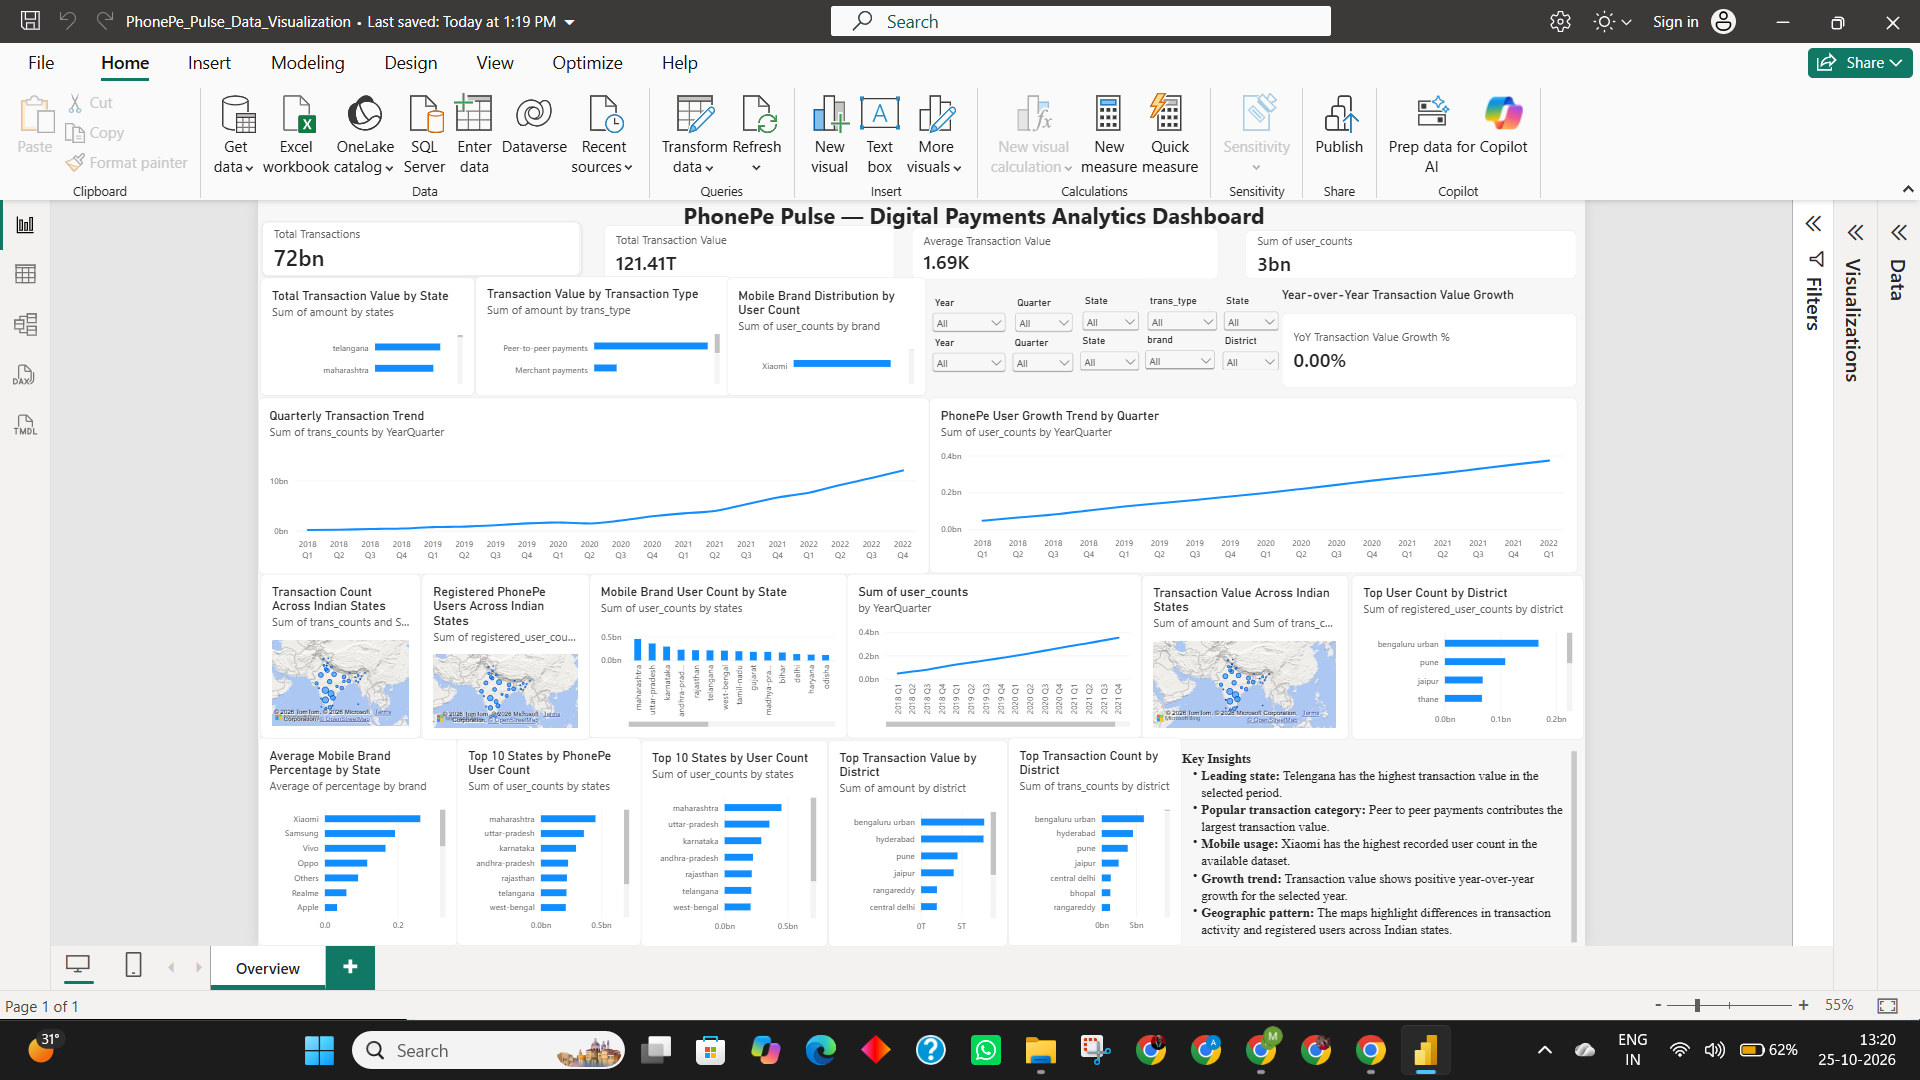

This screenshot's page, from the dashboard's own definition file:
{"tool":"powerbi","page":{"name":"Overview","canvas":[1920,1080],"ordinal":0},"visuals":[{"type":"cardVisual","fields":{"Data":["Aggregated_Transaction.Total Transactions"]},"box":[5.5,31,462.9,80],"z":0},{"type":"cardVisual","fields":{"Data":["Aggregated_Transaction.Total Transaction Value"]},"box":[501.3,36.9,420,82.9],"z":1000},{"type":"cardVisual","fields":{"Data":["Aggregated_Transaction.Average Transaction Value"]},"box":[946.1,39.1,444.8,75.9],"z":2000},{"type":"clusteredBarChart","title":"Total Transaction Value by State","fields":{"Category":["Aggregated_Transaction.states"],"Y":["Sum(Aggregated_Transaction.amount)"]},"box":[4.3,112.8,310.3,171.4],"z":3000},{"type":"clusteredBarChart","title":"Transaction Value by Transaction Type","fields":{"Category":["Aggregated_Transaction.trans_type"],"Y":["Sum(Aggregated_Transaction.amount)"]},"box":[314.6,110.7,371.1,173.6],"z":4000},{"type":"slicer","fields":{"Values":["Dim_Year.Year"]},"box":[972.2,138.9,115,62.9],"z":5000},{"type":"slicer","fields":{"Values":["Dim_Quarter.Quarter"]},"box":[1091.5,138.9,93.3,62.9],"z":6000},{"type":"slicer","fields":{"Values":["Dim_State.State"]},"box":[1189.2,136.7,91.1,60.8],"z":7000},{"type":"slicer","fields":{"Values":["Aggregated_Transaction.trans_type"]},"box":[1282.5,136.7,110.7,60.8],"z":8000},{"type":"lineChart","title":"Quarterly Transaction Trend","fields":{"Category":["Aggregated_Transaction.YearQuarter"],"Y":["Sum(Aggregated_Transaction.trans_counts)"]},"box":[0,286,972,256],"z":9000},{"type":"map","title":"Transaction Value Across Indian States","fields":{"Category":["Aggregated_Transaction.states"],"Size":["Sum(Aggregated_Transaction.amount)"]},"box":[1280.3,542.5,299.5,238.7],"z":10000},{"type":"clusteredBarChart","title":"Mobile Brand Distribution by User Count","fields":{"Category":["Aggregated_User.brand"],"Y":["Sum(Aggregated_User.user_counts)"]},"box":[679.2,112.8,288.6,171.4],"z":11000},{"type":"slicer","fields":{"Values":["Aggregated_User.brand"]},"box":[1280.3,193.1,110.7,60.8],"z":12000},{"type":"clusteredColumnChart","title":"Mobile Brand User Count by State","fields":{"Category":["Aggregated_User.states"],"Y":["Sum(Aggregated_User.user_counts)"]},"box":[479.6,540.3,373.2,238.7],"z":13000},{"type":"clusteredBarChart","title":"Average Mobile Brand Percentage by State","fields":{"Category":["Aggregated_User.brand"],"Y":["Avg(Aggregated_User.percentage)"]},"box":[0,779,288.6,301.6],"z":14000},{"type":"cardVisual","fields":{"Data":["Sum(Aggregated_User.user_counts)"]},"box":[1430,43.4,479.6,71.6],"z":15000},{"type":"lineChart","fields":{"Category":["Aggregated_User.YearQuarter"],"Y":["Sum(Aggregated_User.user_counts)"]},"box":[852.8,540.3,427.5,238.7],"z":16000},{"type":"clusteredBarChart","title":"Top 10 States by User Count","fields":{"Category":["Aggregated_User.states"],"Y":["Sum(Aggregated_User.user_counts)"]},"box":[553.3,781.2,271.2,299.5],"z":17000},{"type":"slicer","fields":{"Values":["Dim_Year.Year"]},"box":[972.2,197.5,115,56.4],"z":18000},{"type":"slicer","fields":{"Values":["Dim_Quarter.Quarter"]},"box":[1087.2,197.5,97.6,67.3],"z":19000},{"type":"slicer","fields":{"Values":["Dim_State.State"]},"box":[1184.8,195.3,95.5,60.8],"z":20000},{"type":"lineChart","title":"PhonePe User Growth Trend by Quarter","fields":{"Category":["Aggregated_User.YearQuarter"],"Y":["Sum(Aggregated_User.user_counts)"]},"box":[972,286,938,254],"z":21000},{"type":"clusteredBarChart","title":"Top 10 States by PhonePe User Count","fields":{"Category":["Aggregated_User.states"],"Y":["Sum(Aggregated_User.user_counts)"]},"box":[288.6,779,266.9,301.6],"z":22000},{"type":"cardVisual","title":"Year-over-Year Transaction Value Growth","fields":{"Data":["Aggregated_Transaction.YoY Transaction Value Growth %"]},"box":[1482.1,125.9,427.5,145.4],"z":23000},{"type":"slicer","fields":{"Values":["Dim_District.District"]},"box":[1391,195.3,91.1,49.9],"z":24000},{"type":"slicer","fields":{"Values":["Dim_State.State"]},"box":[1393.1,136.7,89,54.2],"z":25000},{"type":"clusteredBarChart","title":"Top Transaction Count by District","fields":{"Category":["Top_Transaction.district"],"Y":["Sum(Top_Transaction.trans_counts)"]},"box":[1085,779,251.7,301.6],"z":26000},{"type":"clusteredBarChart","title":"Top Transaction Value by District","fields":{"Category":["Top_Transaction.district"],"Y":["Sum(Top_Transaction.amount)"]},"box":[824.6,781.2,260.4,299.5],"z":27000},{"type":"map","title":"Transaction Count Across Indian States","fields":{"Category":["Map_Transaction.states"],"Size":["Sum(Map_Transaction.trans_counts)"]},"box":[4.3,540.3,232.2,238.7],"z":28000},{"type":"map","title":"Registered PhonePe Users Across Indian States","fields":{"Category":["Map_User.states"],"Size":["Sum(Map_User.registered_user_counts)"]},"box":[236.5,540.3,243,240.9],"z":29000},{"type":"clusteredBarChart","title":"Top User Count by District","fields":{"Category":["Top_User.district"],"Y":["Sum(Top_User.registered_user_counts)"]},"box":[1584.1,542.5,336.3,238.7],"z":30000},{"type":"textbox","box":[154.3,0,1765.7,57.1],"z":31000},{"type":"textbox","box":[1338,798,572,282],"z":31001}]}

Visuals, with their boxes on the page's 1920x1080 design canvas (x1, y1, x2, y2). These are canvas units, not pixel positions in the 1920x1080 screenshot, which may show the page scaled, cropped or inside an application window:
cardVisual - Aggregated_Transaction.Total Transactions: rect(6, 31, 468, 111)
cardVisual - Aggregated_Transaction.Total Transaction Value: rect(501, 37, 921, 120)
cardVisual - Aggregated_Transaction.Average Transaction Value: rect(946, 39, 1391, 115)
"Total Transaction Value by State" clusteredBarChart: rect(4, 113, 315, 284)
"Transaction Value by Transaction Type" clusteredBarChart: rect(315, 111, 686, 284)
slicer - Dim_Year.Year: rect(972, 139, 1087, 202)
slicer - Dim_Quarter.Quarter: rect(1092, 139, 1185, 202)
slicer - Dim_State.State: rect(1189, 137, 1280, 198)
slicer - Aggregated_Transaction.trans_type: rect(1282, 137, 1393, 198)
"Quarterly Transaction Trend" lineChart: rect(0, 286, 972, 542)
"Transaction Value Across Indian States" map: rect(1280, 542, 1580, 781)
"Mobile Brand Distribution by User Count" clusteredBarChart: rect(679, 113, 968, 284)
slicer - Aggregated_User.brand: rect(1280, 193, 1391, 254)
"Mobile Brand User Count by State" clusteredColumnChart: rect(480, 540, 853, 779)
"Average Mobile Brand Percentage by State" clusteredBarChart: rect(0, 779, 289, 1081)
cardVisual - Sum(Aggregated_User.user_counts): rect(1430, 43, 1910, 115)
lineChart - Aggregated_User.YearQuarter x Sum(Aggregated_User.user_counts): rect(853, 540, 1280, 779)
"Top 10 States by User Count" clusteredBarChart: rect(553, 781, 824, 1081)
slicer - Dim_Year.Year: rect(972, 198, 1087, 254)
slicer - Dim_Quarter.Quarter: rect(1087, 198, 1185, 265)
slicer - Dim_State.State: rect(1185, 195, 1280, 256)
"PhonePe User Growth Trend by Quarter" lineChart: rect(972, 286, 1910, 540)
"Top 10 States by PhonePe User Count" clusteredBarChart: rect(289, 779, 556, 1081)
"Year-over-Year Transaction Value Growth" cardVisual: rect(1482, 126, 1910, 271)
slicer - Dim_District.District: rect(1391, 195, 1482, 245)
slicer - Dim_State.State: rect(1393, 137, 1482, 191)
"Top Transaction Count by District" clusteredBarChart: rect(1085, 779, 1337, 1081)
"Top Transaction Value by District" clusteredBarChart: rect(825, 781, 1085, 1081)
"Transaction Count Across Indian States" map: rect(4, 540, 236, 779)
"Registered PhonePe Users Across Indian States" map: rect(236, 540, 480, 781)
"Top User Count by District" clusteredBarChart: rect(1584, 542, 1920, 781)
textbox: rect(154, 0, 1920, 57)
textbox: rect(1338, 798, 1910, 1080)
